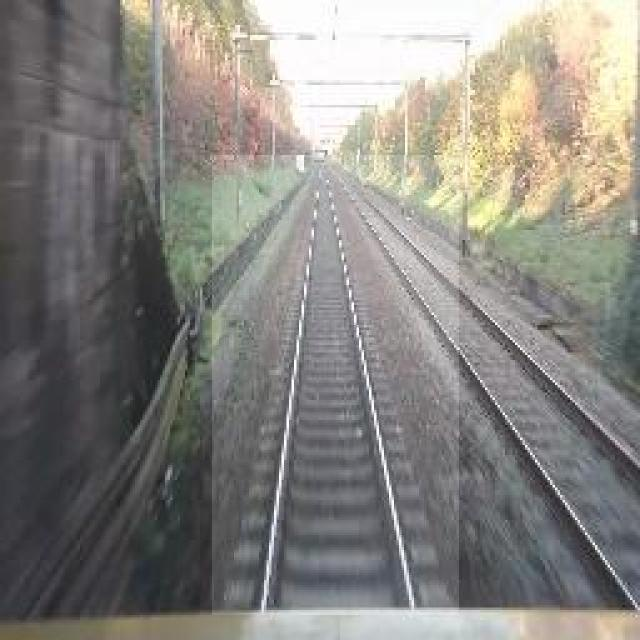rail: (213, 156, 460, 616)
